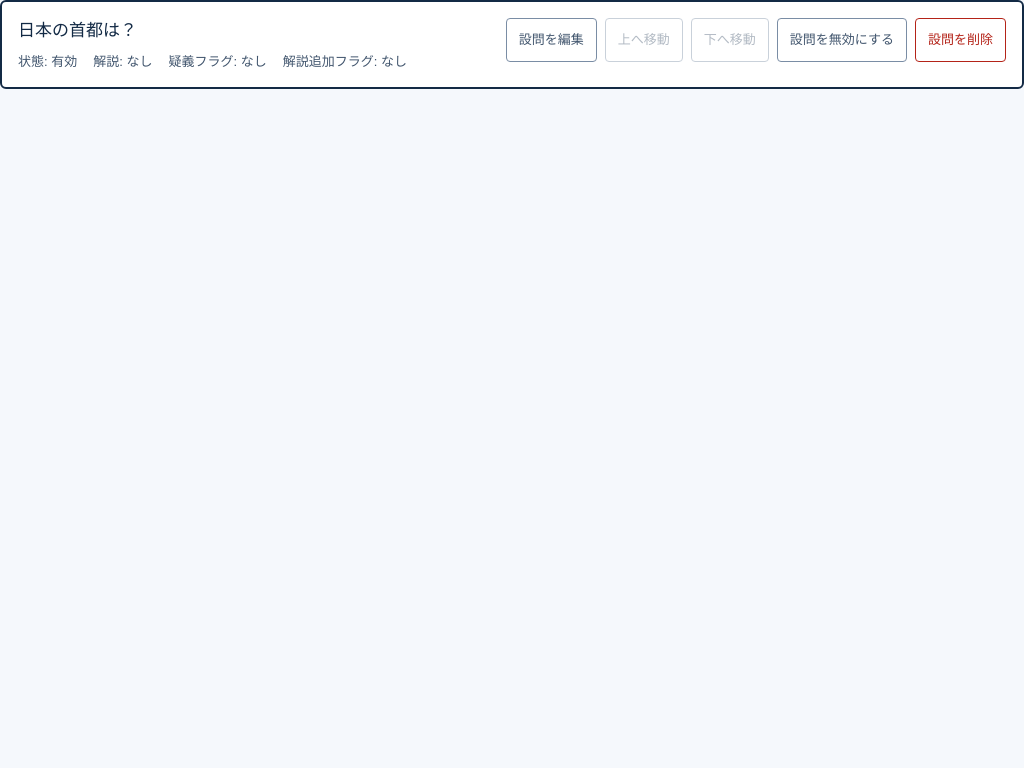
QuestionList › 有効状態変更と削除は対象を示す確認後だけ実行し、取消時は何もしない
Click the button "設問を無効にする": (842, 40) 777,18 -> 907,62
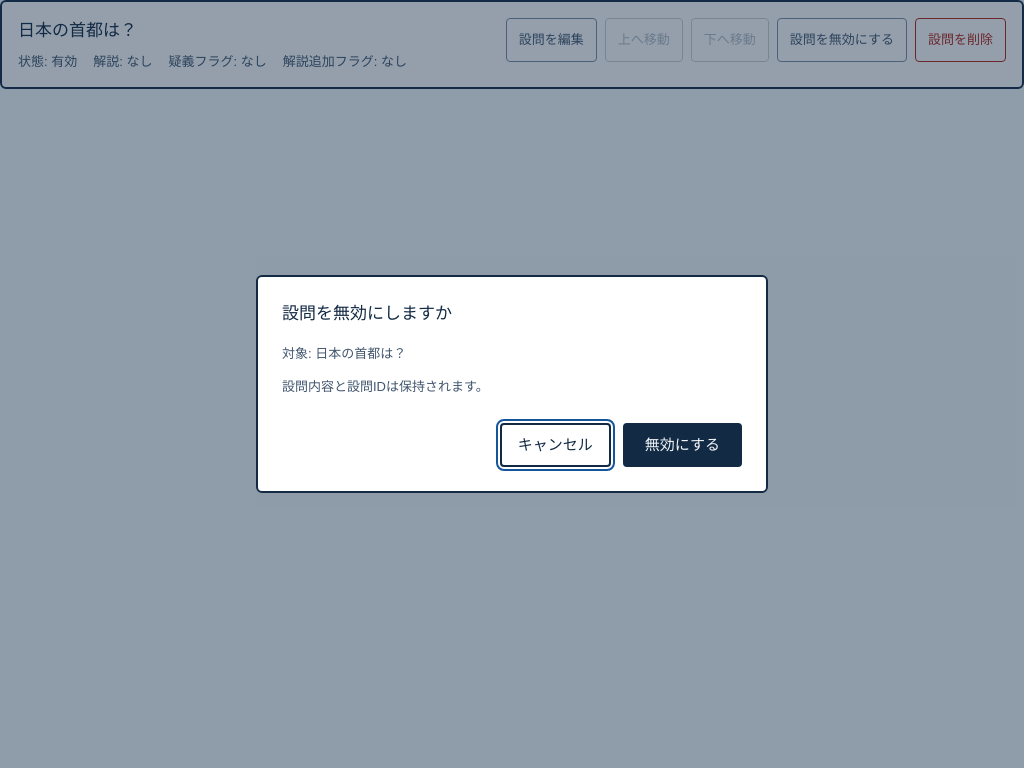
Check: the dialog shows "日本の首都は？", box 315,346 -> 406,361
Click the button "キャンセル": (555, 445) 500,423 -> 611,467
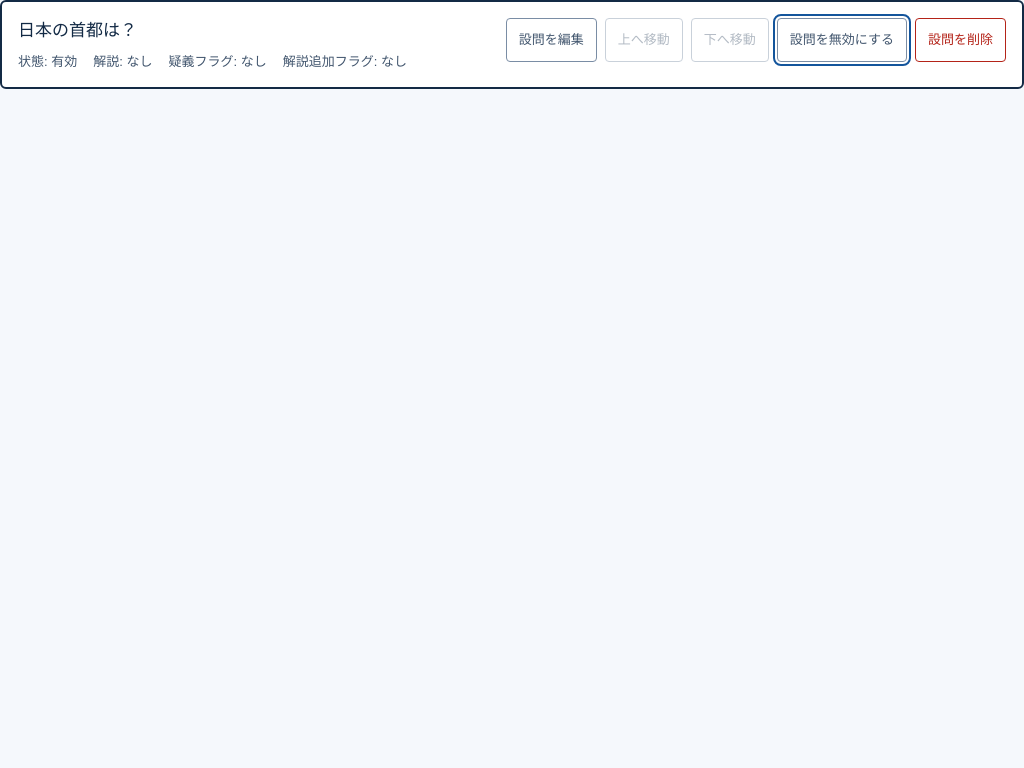
Click the button "設問を無効にする": (842, 40) 777,18 -> 907,62
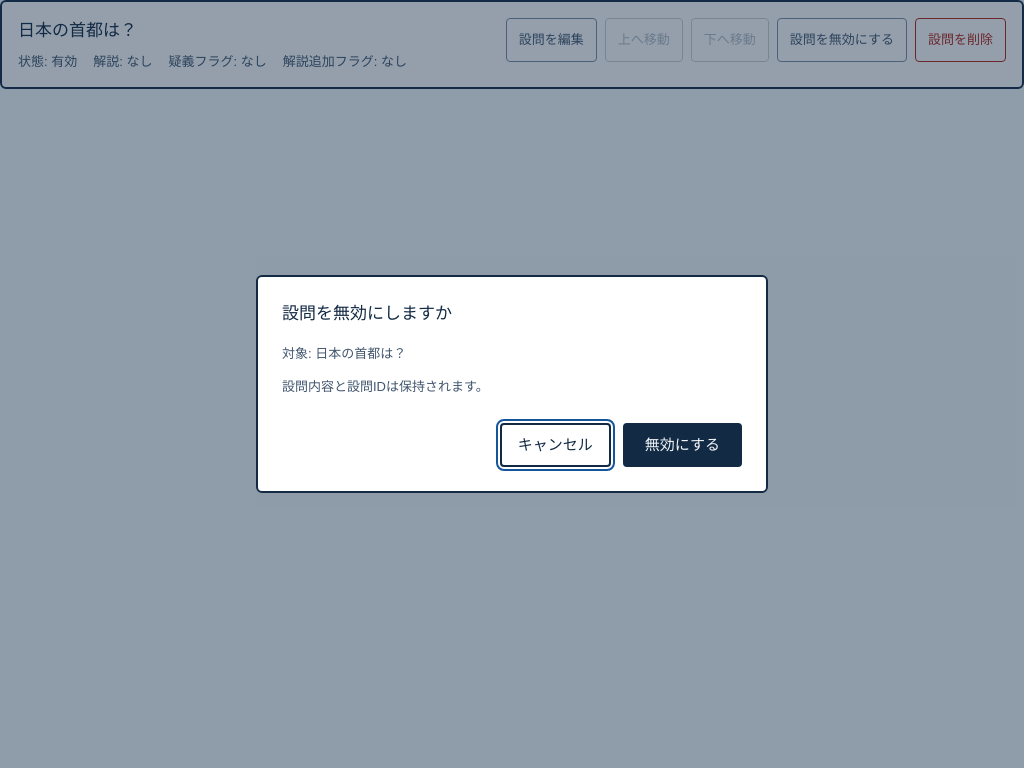
Click the button "無効にする": (682, 445) 623,423 -> 742,467
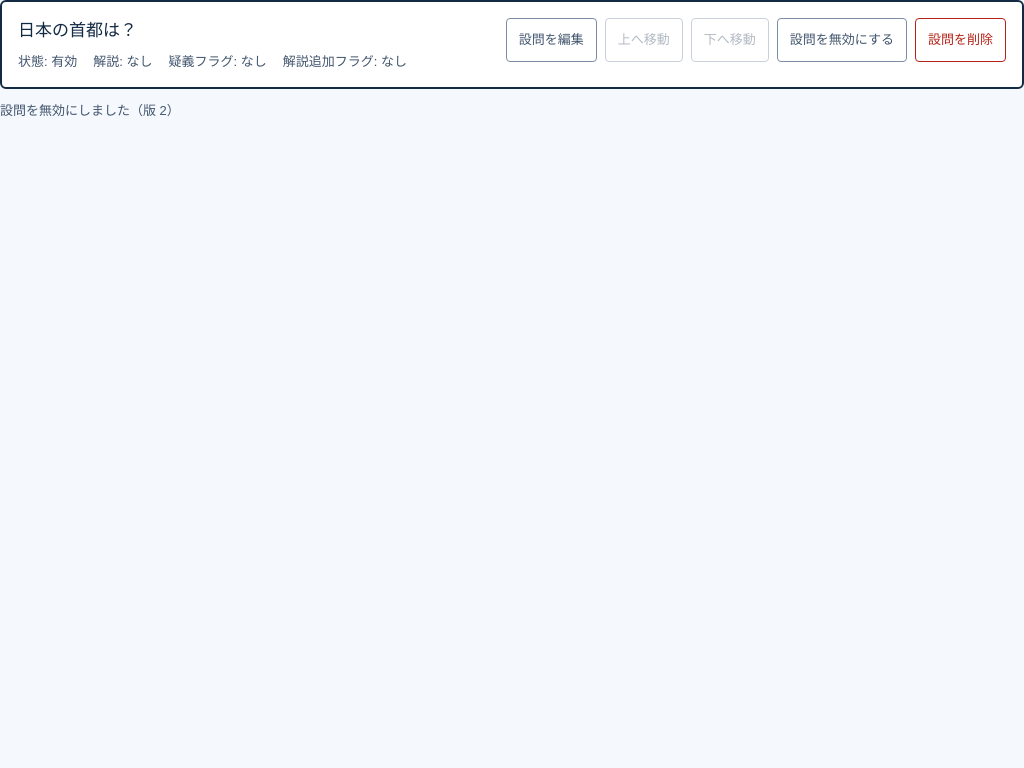
Check: the message shows "設問を無効にしました", box 0,103 -> 180,118
Click the button "設問を削除": (960, 40) 915,18 -> 1006,62
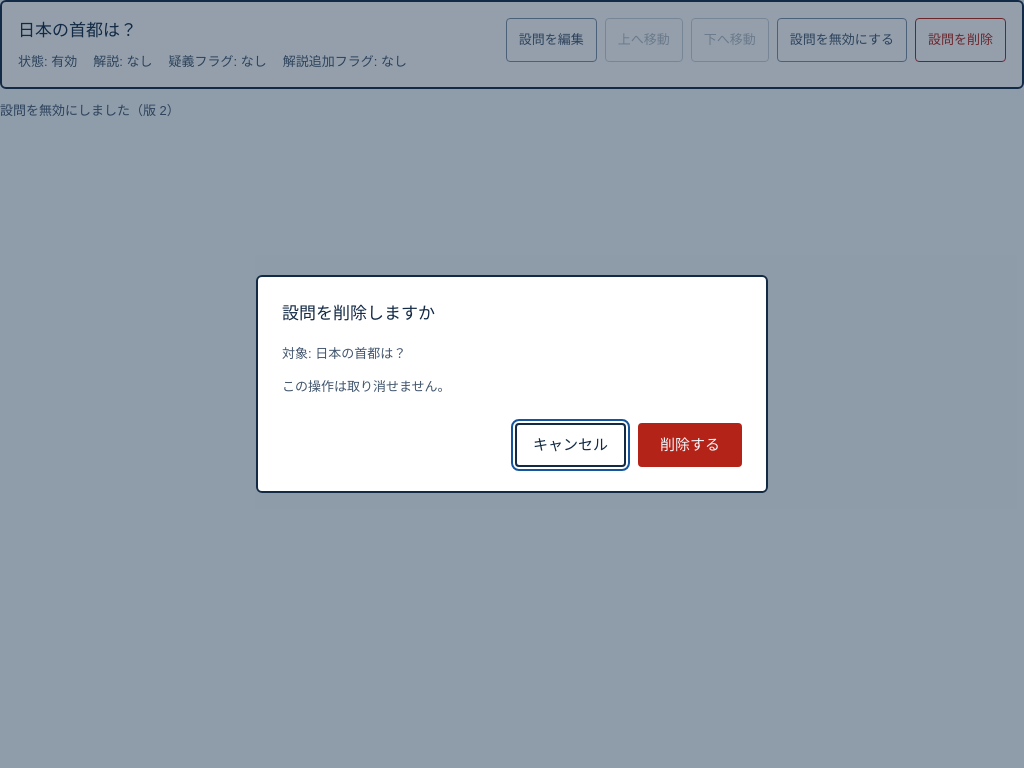
Check: the dialog shows "この操作は取り消せません", box 282,379 -> 451,394
Click the button "削除する": (690, 445) 638,423 -> 742,467
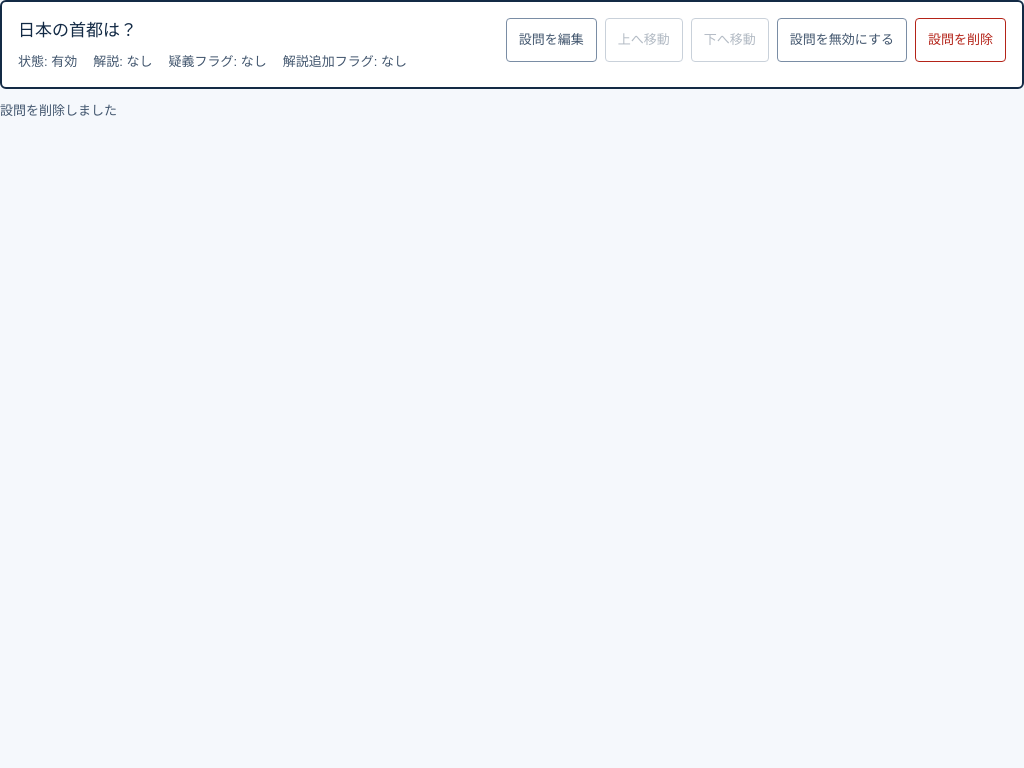
Check: the message reads "設問を削除しました", box 0,103 -> 117,118
